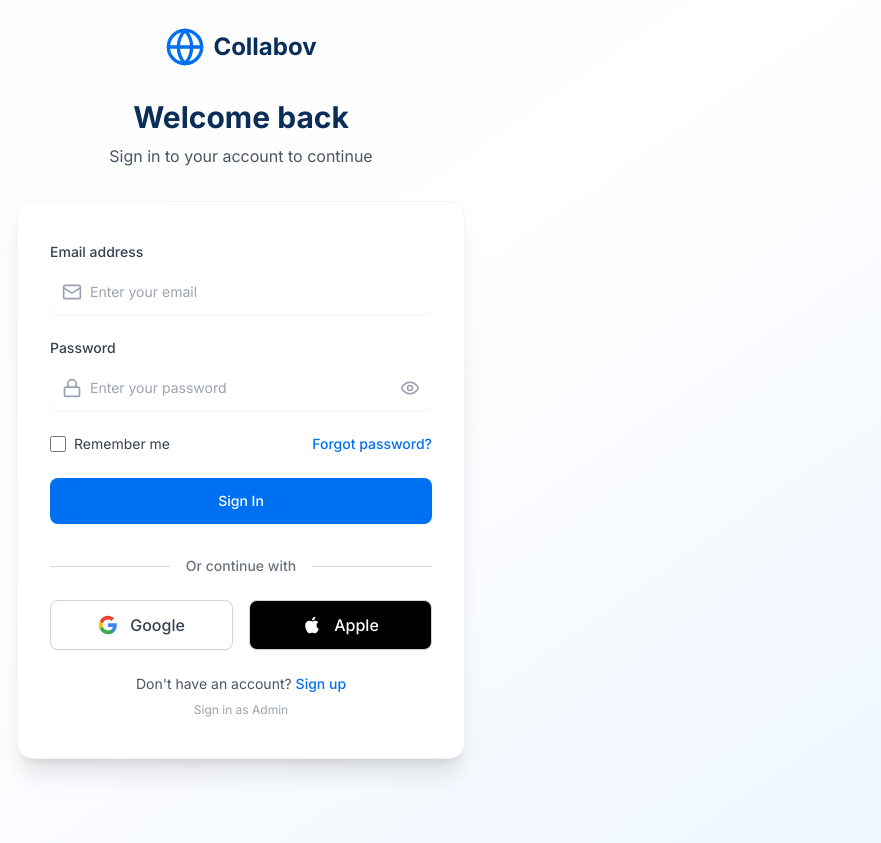
Test: Feature: User Sign In › Scenario: Form validation prevents invalid submissions › should show validation error when password is empty
Type "user@example.com" into the field with placeholder "Enter your email" at (241, 292), box top-left (50, 270), bottom-right (432, 314)
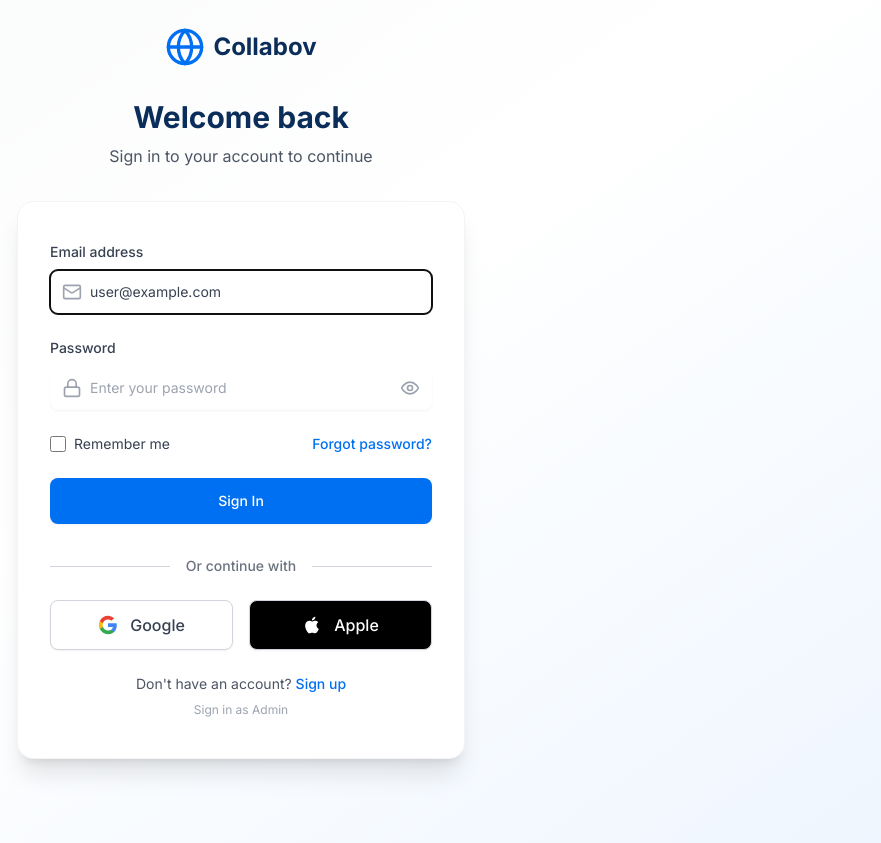
Note: Leave password empty
Click the button "Sign In" at (241, 501), box top-left (50, 478), bottom-right (432, 524)
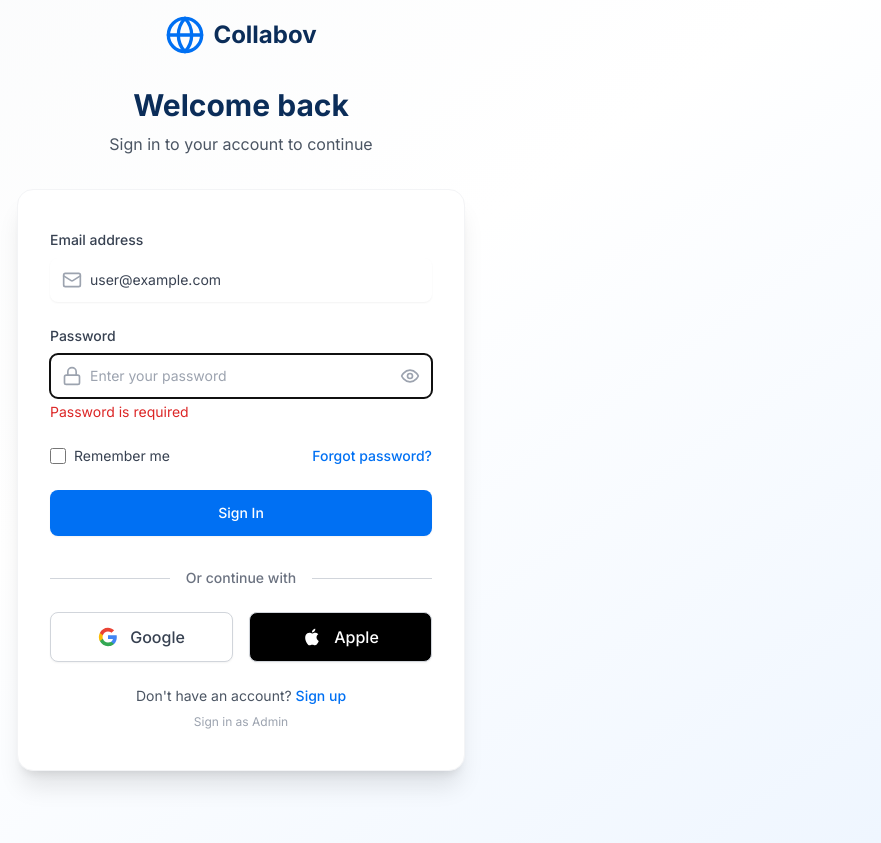
Expected: the text "Password is required" is shown, top-left (50, 403), bottom-right (189, 420)
